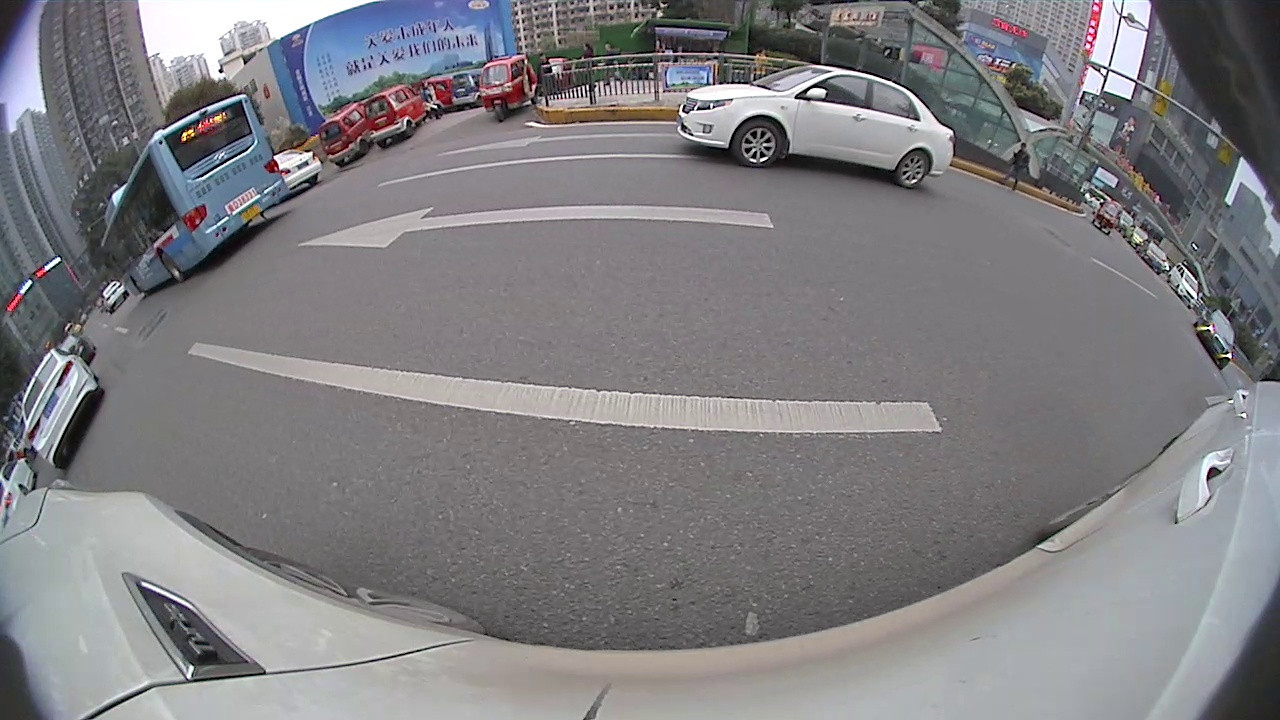bus: (99, 91, 289, 300)
car: (677, 65, 956, 190), (21, 347, 105, 469), (270, 148, 326, 195), (1197, 308, 1236, 368), (1, 457, 36, 518), (1169, 261, 1201, 303), (55, 332, 97, 361), (1138, 237, 1170, 270), (100, 279, 128, 312)
front: (728, 116, 787, 168)
person: (1015, 139, 1029, 187)
rear: (895, 150, 933, 189), (159, 250, 185, 284)
rider: (363, 82, 431, 151), (480, 53, 540, 124), (319, 101, 373, 168), (450, 65, 484, 107), (424, 73, 454, 111), (1094, 198, 1122, 231)
